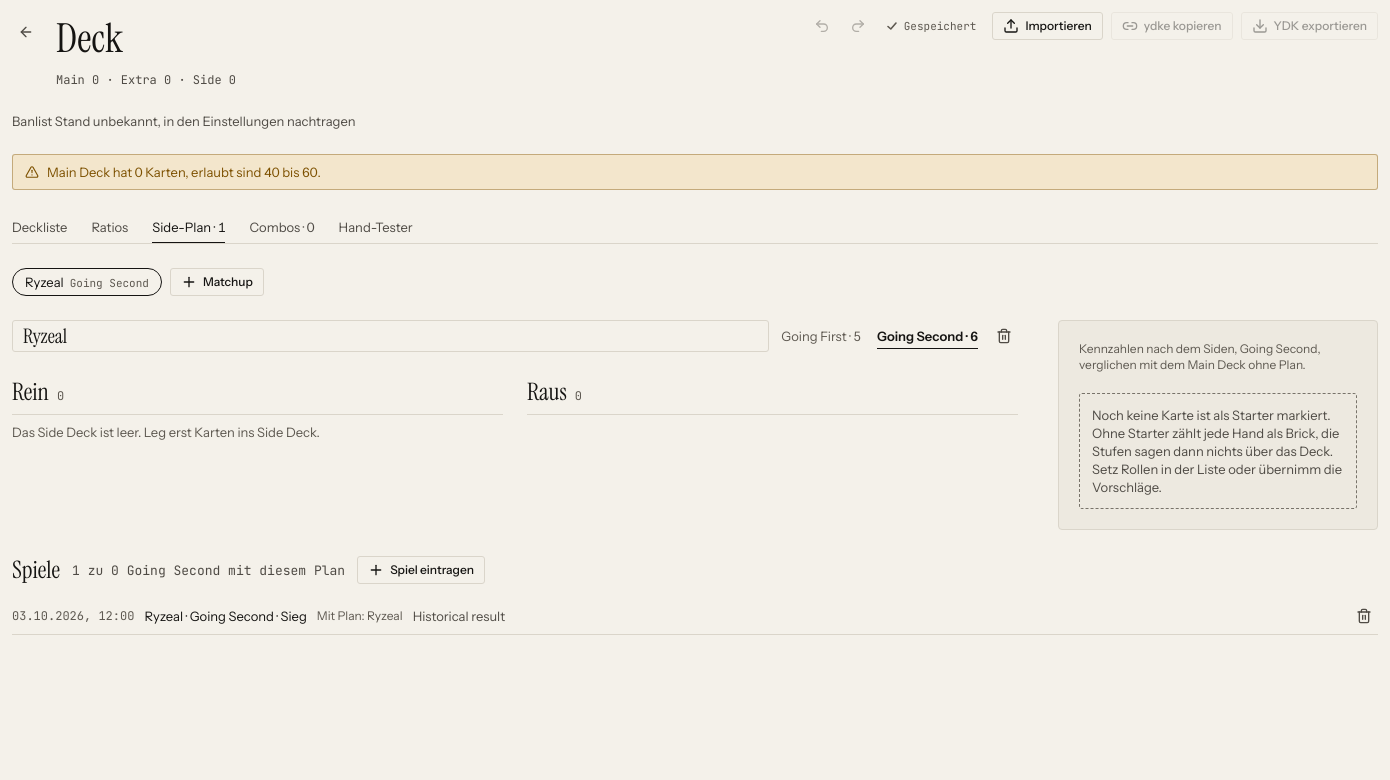
behält nach explizitem Löschen des Plans das Spiel sichtbar ohne Planbezug
Click the button named "Side-Plan löschen" at (1004, 336), box [990, 322, 1018, 350]
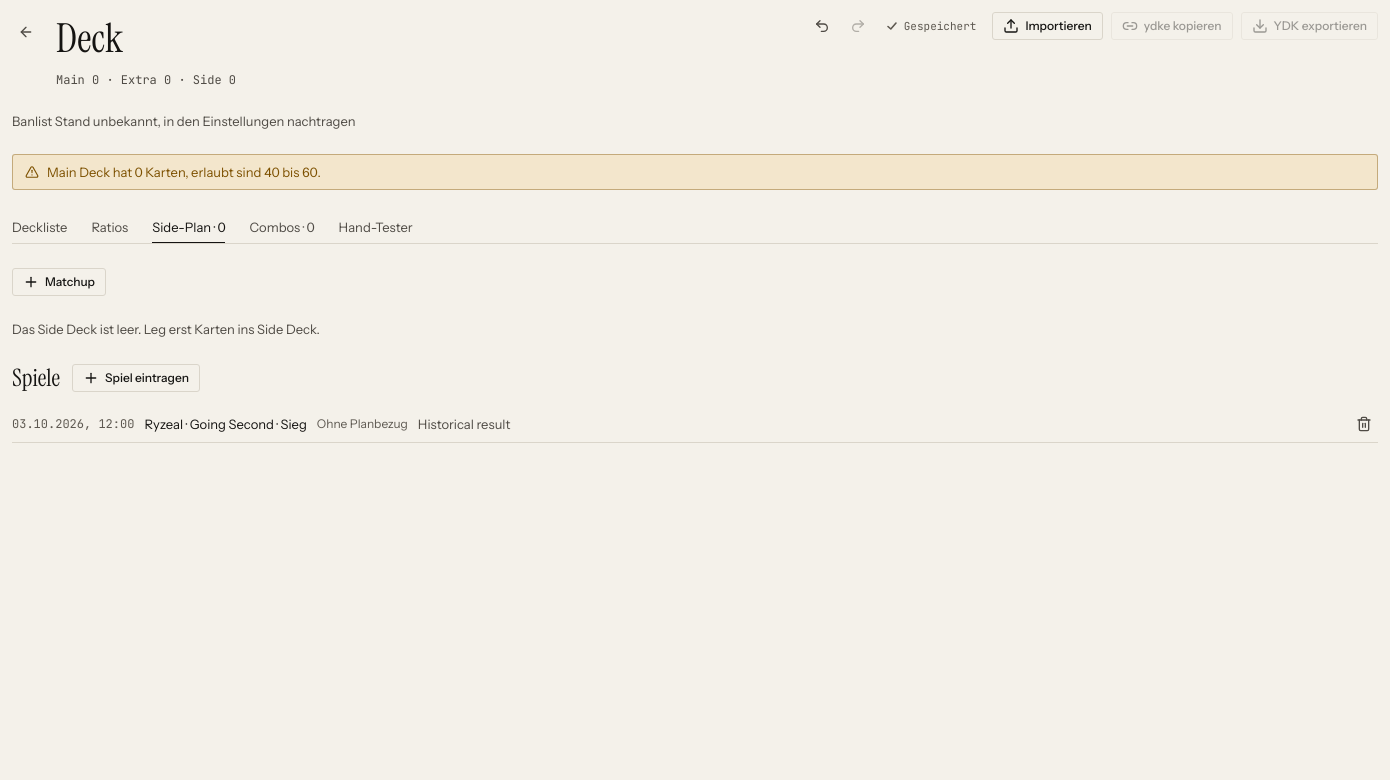
Expected: the text "Historical result" is shown, [418, 416, 510, 432]
Expected: the text "Ohne Planbezug" is shown, [317, 416, 408, 432]
Expected: the text "1 zu 0 Going Second mit diesem Plan" is gone
